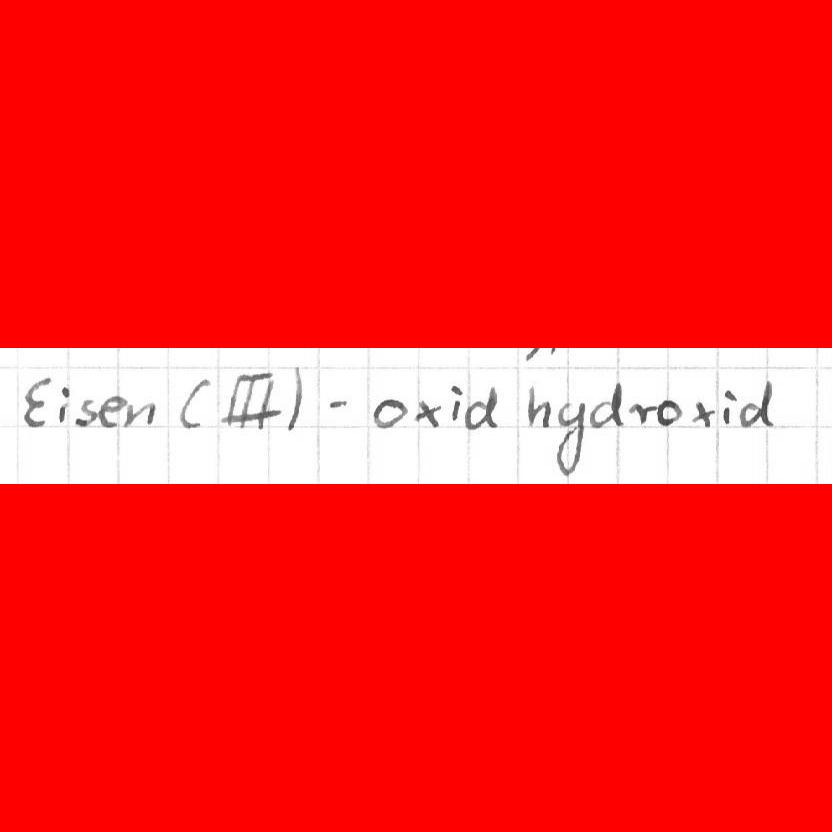Char: (221, 372, 270, 431), (553, 396, 587, 480), (738, 379, 777, 431), (587, 380, 623, 431), (178, 378, 212, 430), (464, 383, 500, 432), (21, 377, 51, 429), (282, 369, 305, 435), (525, 382, 552, 431), (370, 395, 407, 429), (124, 397, 155, 428), (99, 393, 123, 429), (414, 397, 441, 428), (74, 396, 97, 428), (447, 383, 464, 425), (657, 398, 681, 427), (690, 399, 713, 429), (629, 401, 653, 427), (721, 388, 737, 425), (57, 384, 71, 425), (326, 394, 348, 411)
